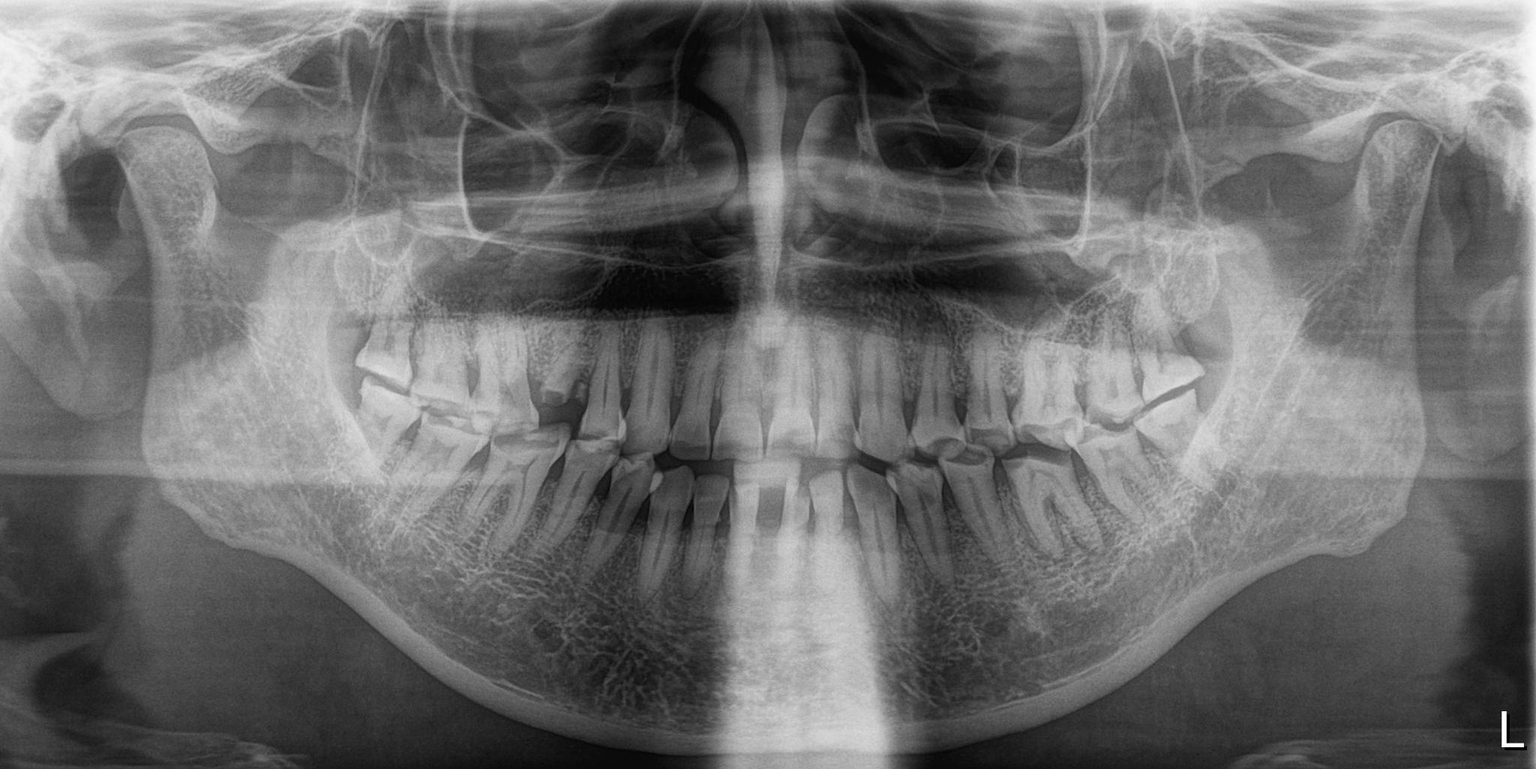Dental Caries: (529, 383, 584, 436)
Endodontically Treated Tooth: (346, 383, 410, 478)
